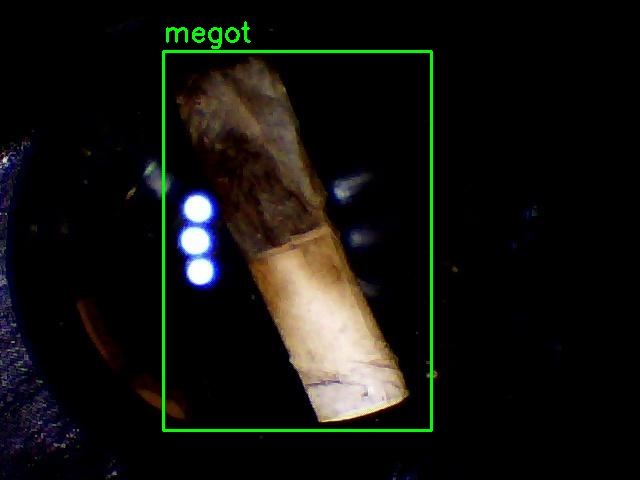megot: (163, 51, 431, 430)
